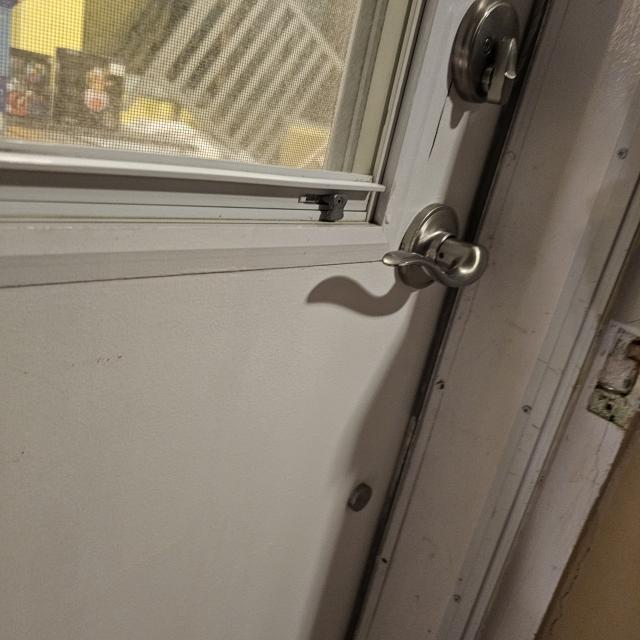door-handle: (382, 204, 489, 289)
